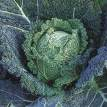cabbage: (21, 13, 95, 87)
